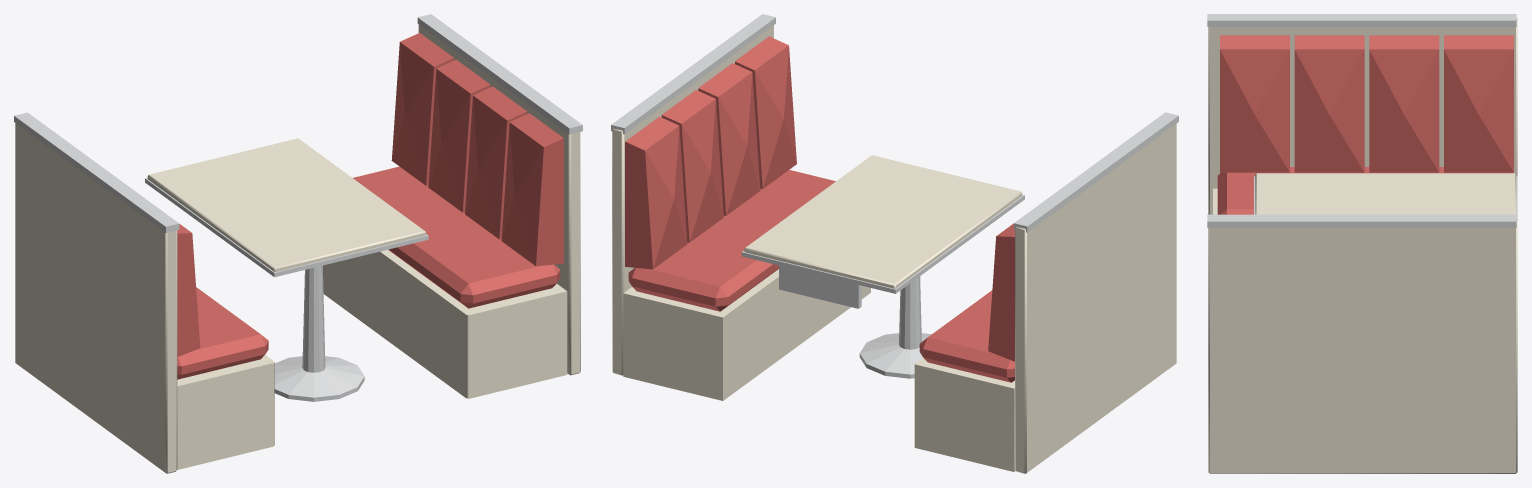
File: booth.glb
The picture shows the model from 3 angles, left to right: view 1: azimuth 30°, elevation 25°; view 2: azimuth 150°, elevation 25°; view 3: azimuth 270°, elevation 25°; orthographic projection. The views are drawn at different scales.
Parts seen in each view (by area): view 1: booth_formica, booth_booth, booth_steel; view 2: booth_formica, booth_booth, booth_steel; view 3: booth_formica, booth_booth, booth_steel.
Boxes of the visible parts, x1=… form: booth_formica: x1=15, y1=25, x2=580, y2=473; booth_booth: x1=177, y1=33, x2=563, y2=379; booth_steel: x1=14, y1=14, x2=582, y2=401; booth_formica: x1=612, y1=25, x2=1176, y2=473; booth_booth: x1=625, y1=36, x2=1014, y2=382; booth_steel: x1=611, y1=14, x2=1178, y2=378; booth_formica: x1=1208, y1=18, x2=1517, y2=473; booth_booth: x1=1217, y1=35, x2=1513, y2=214; booth_steel: x1=1207, y1=14, x2=1517, y2=227.
Size of the model in its own units: 2.09 by 1.19 by 1.32.
